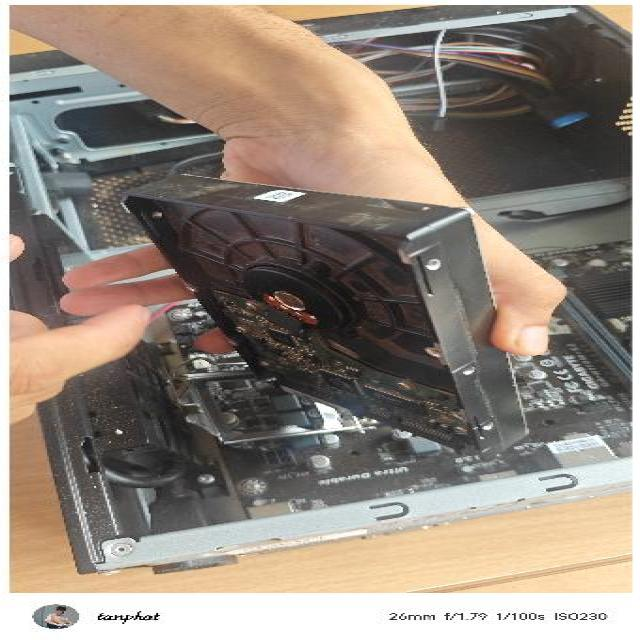DISK: (114, 170, 532, 464)
